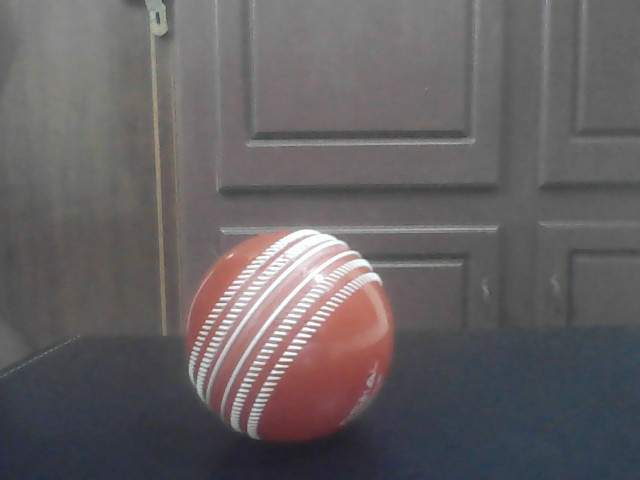cricket_ball: (168, 224, 402, 444)
